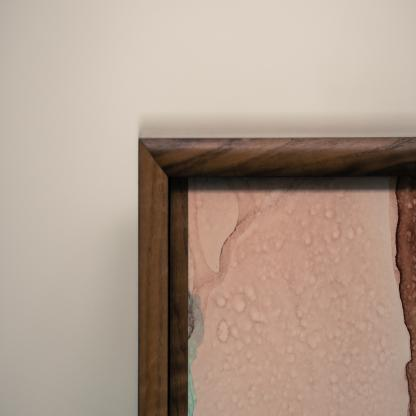Picture-frame: (139, 136, 416, 416)
